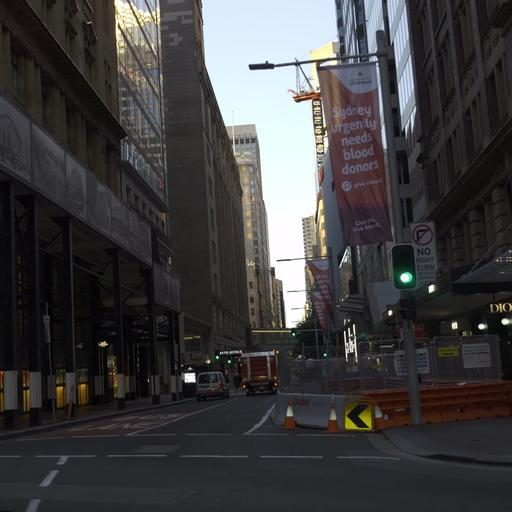Street light: (247, 36, 423, 425), (290, 305, 319, 357), (390, 242, 417, 290), (477, 321, 487, 333)
